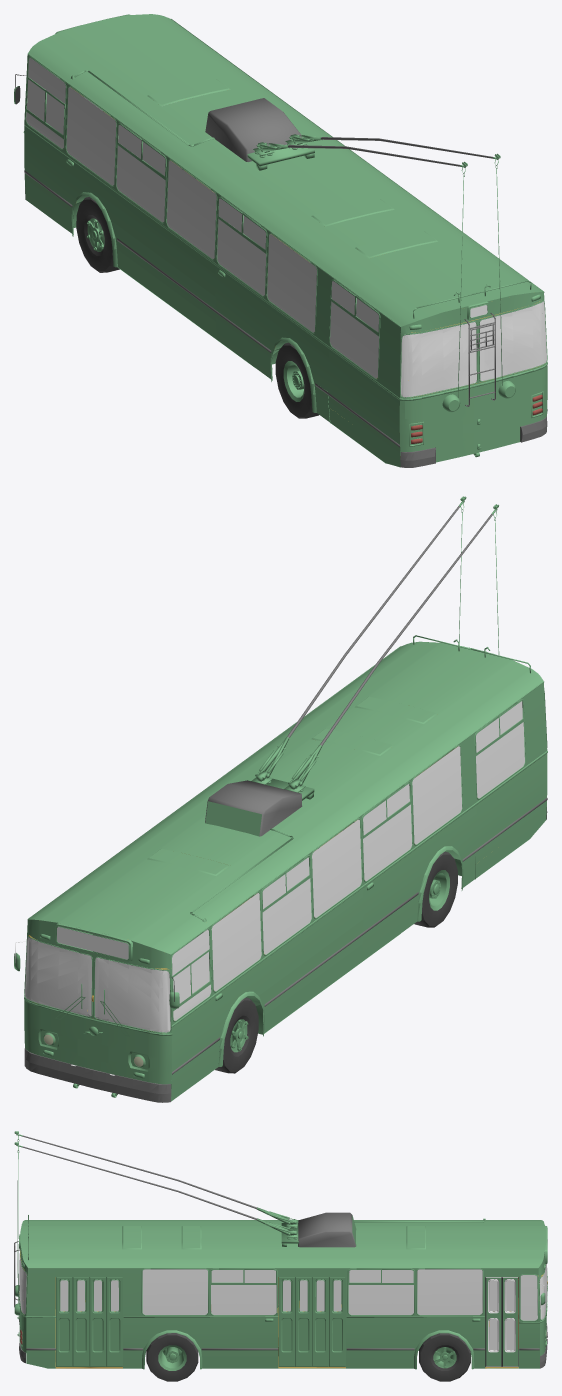
File: Trolleybus_3D.fbx
The picture shows the model from 3 angles, top to bottom: view 1: azimuth 30°, elevation 25°; view 2: azimuth 150°, elevation 25°; view 3: azimuth 270°, elevation 25°; orthographic projection. The views are drawn at different scales.
Visible parts, largest first — view 1: body, FLwheel, BLwheel; view 2: body, BLwheel, FLwheel; view 3: body, BRwheel, FRwheel.
Part boxes in pixels (<box>): body: <box>14,14,547,467</box>; FLwheel: <box>76,197,119,272</box>; BLwheel: <box>275,342,318,418</box>; body: <box>14,496,547,1102</box>; BLwheel: <box>414,851,457,927</box>; FLwheel: <box>215,997,258,1073</box>; body: <box>14,1131,547,1369</box>; BRwheel: <box>146,1333,198,1381</box>; FRwheel: <box>419,1333,470,1381</box>.
Bounding box in the file's own units: 112 × 210 × 459.
